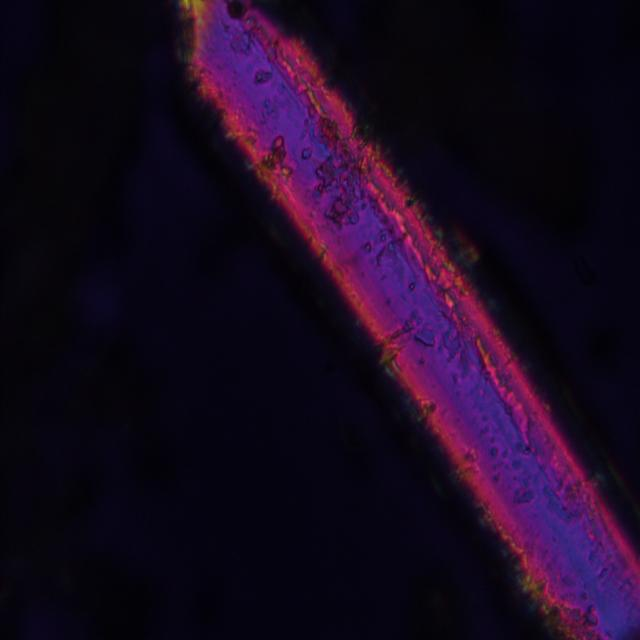Microfibre: (171, 0, 640, 634)
